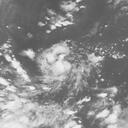cyclone: (33, 41, 73, 83)
